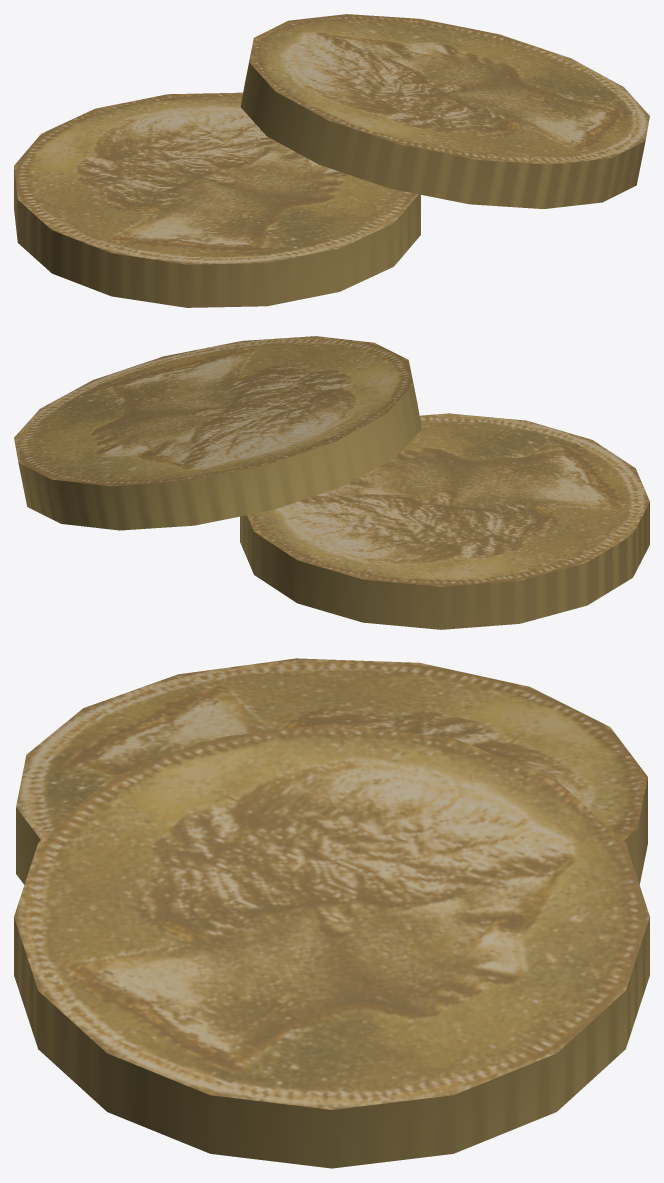
The model's file is VFX_ChocolateCoins.fbx.
3 views of the same model, one above another, from view 1: azimuth 30°, elevation 25°; view 2: azimuth 150°, elevation 25°; view 3: azimuth 270°, elevation 25° (orthographic). The views are drawn at different scales.
Parts seen in each view (by area): view 1: Chocolate Coins; view 2: Chocolate Coins; view 3: Chocolate Coins.
Part boxes in pixels (bbox=[...]): Chocolate Coins: bbox=[14, 14, 649, 307]; Chocolate Coins: bbox=[14, 336, 649, 629]; Chocolate Coins: bbox=[14, 658, 649, 1168].
Size of the model in its own units: 0.1183 by 0.0237 by 0.0723.
